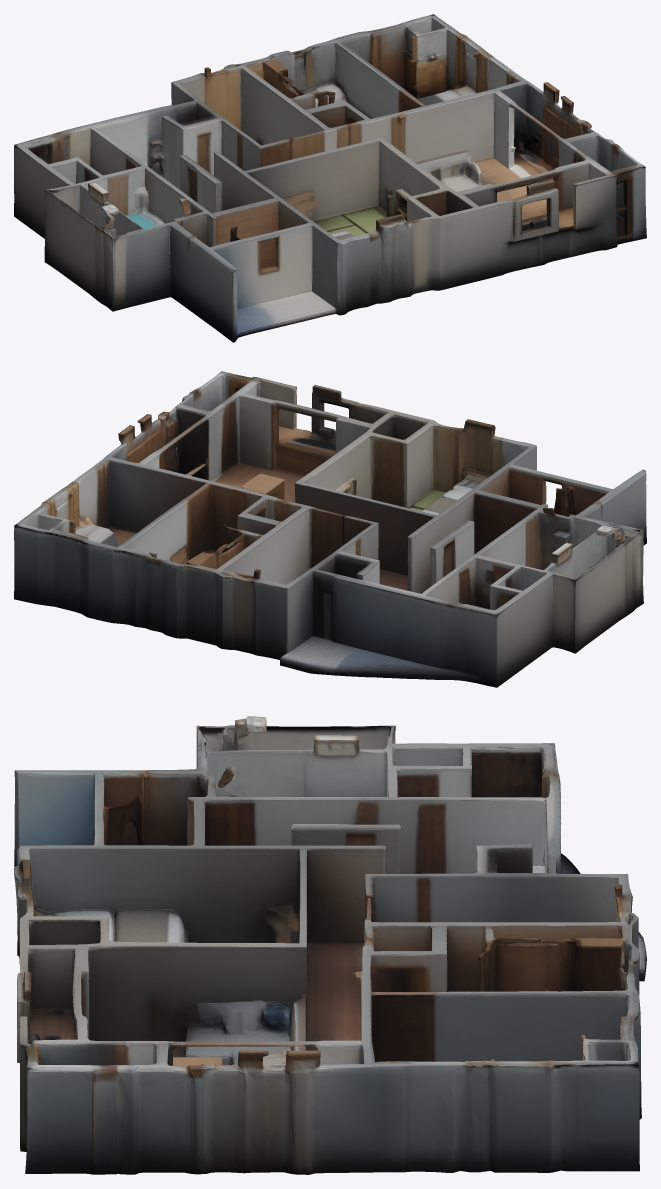
3 renders of one model, top to bottom at view 1: azimuth 30°, elevation 25°; view 2: azimuth 150°, elevation 25°; view 3: azimuth 270°, elevation 25°, orthographic. The views are drawn at different scales.
Parts seen in each view (by area): view 1: world; view 2: world; view 3: world.
Boxes of the visible parts, x1,y1,x2,y2 form: world: (14, 14, 646, 342); world: (14, 371, 646, 687); world: (14, 716, 646, 1174).
Bounding box in the file's own units: 0.9899 × 0.1681 × 0.7719.
Materials: 1 (1 with a texture image).
